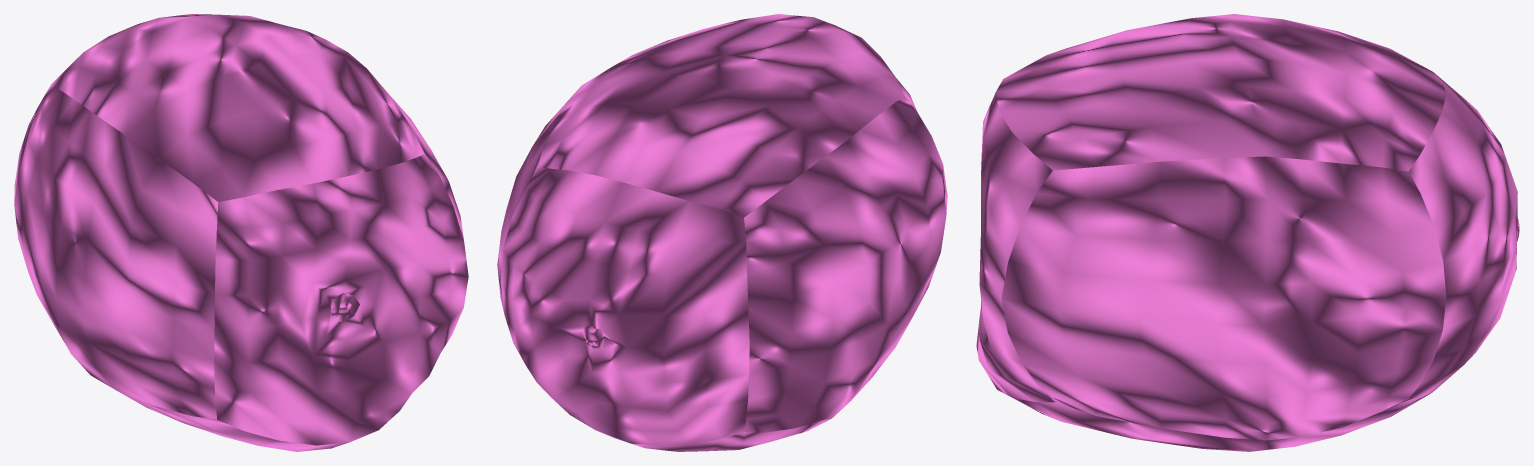
File: fruit_watermelon_1_d.glb
The picture shows the model from 3 angles, left to right: view 1: azimuth 30°, elevation 25°; view 2: azimuth 150°, elevation 25°; view 3: azimuth 270°, elevation 25°; orthographic projection. The views are drawn at different scales.
Size of the model in its own units: 0.1886 by 0.1887 by 0.2377.
